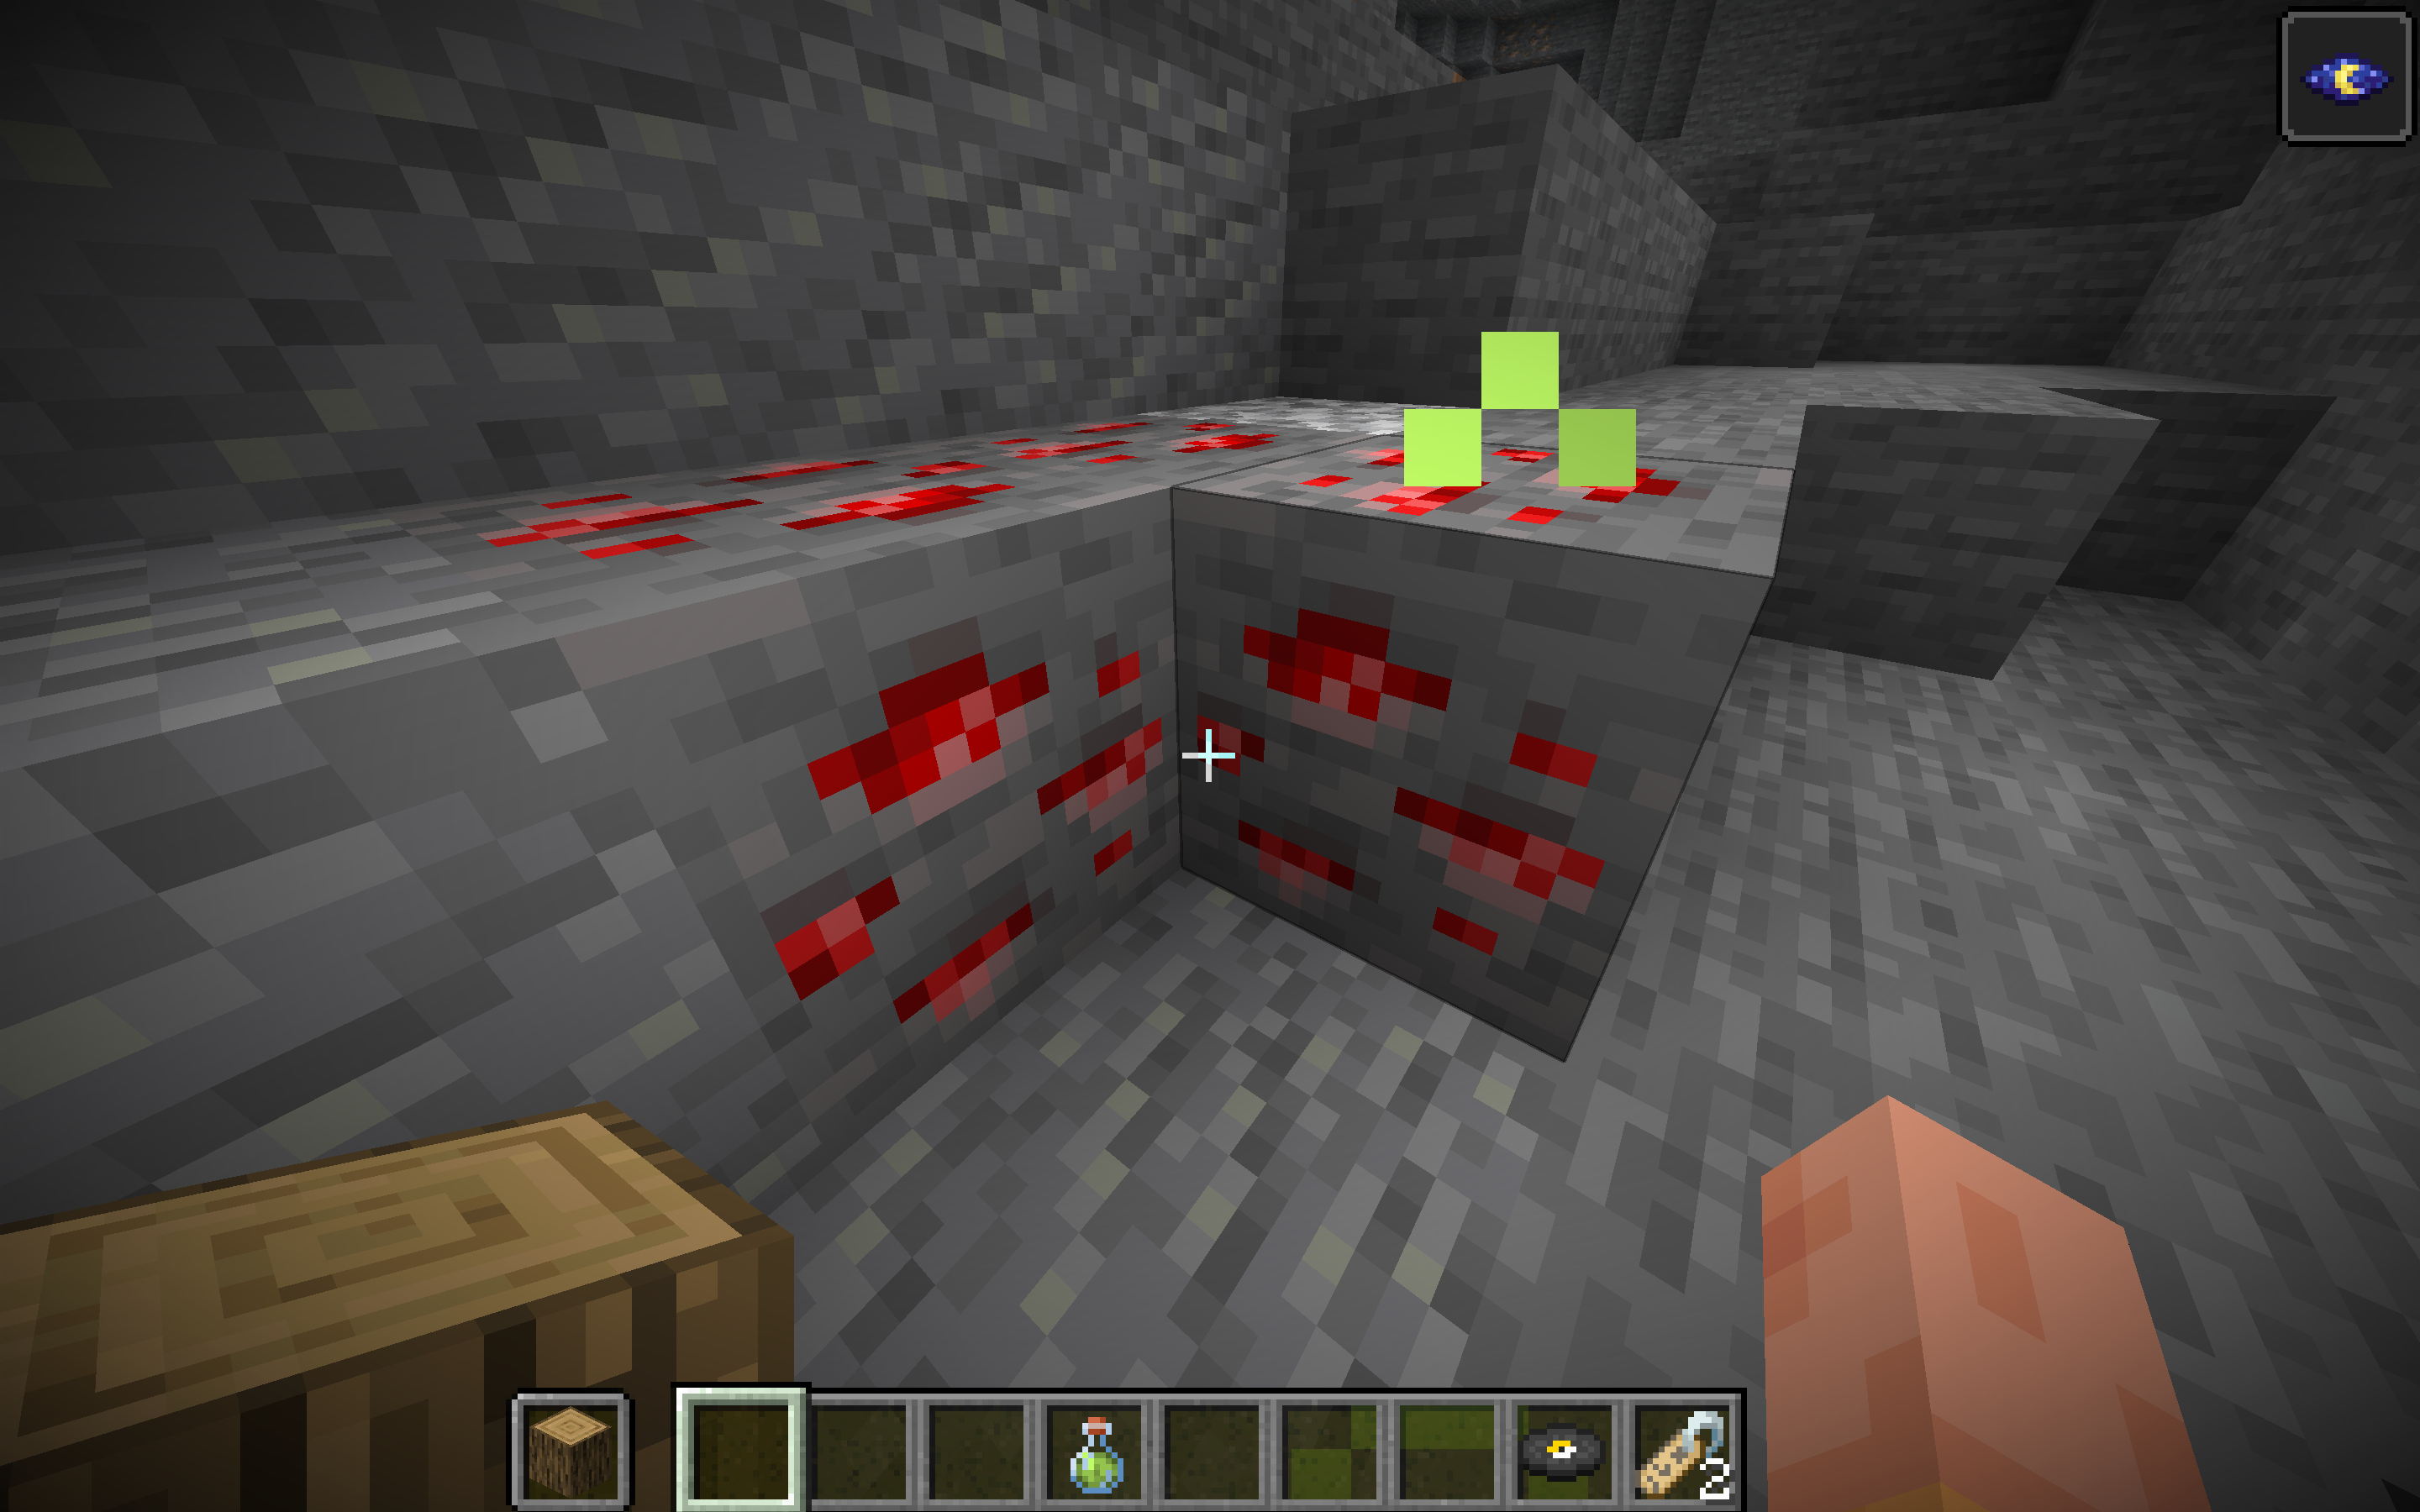redstone: (317, 256, 1801, 1113)
